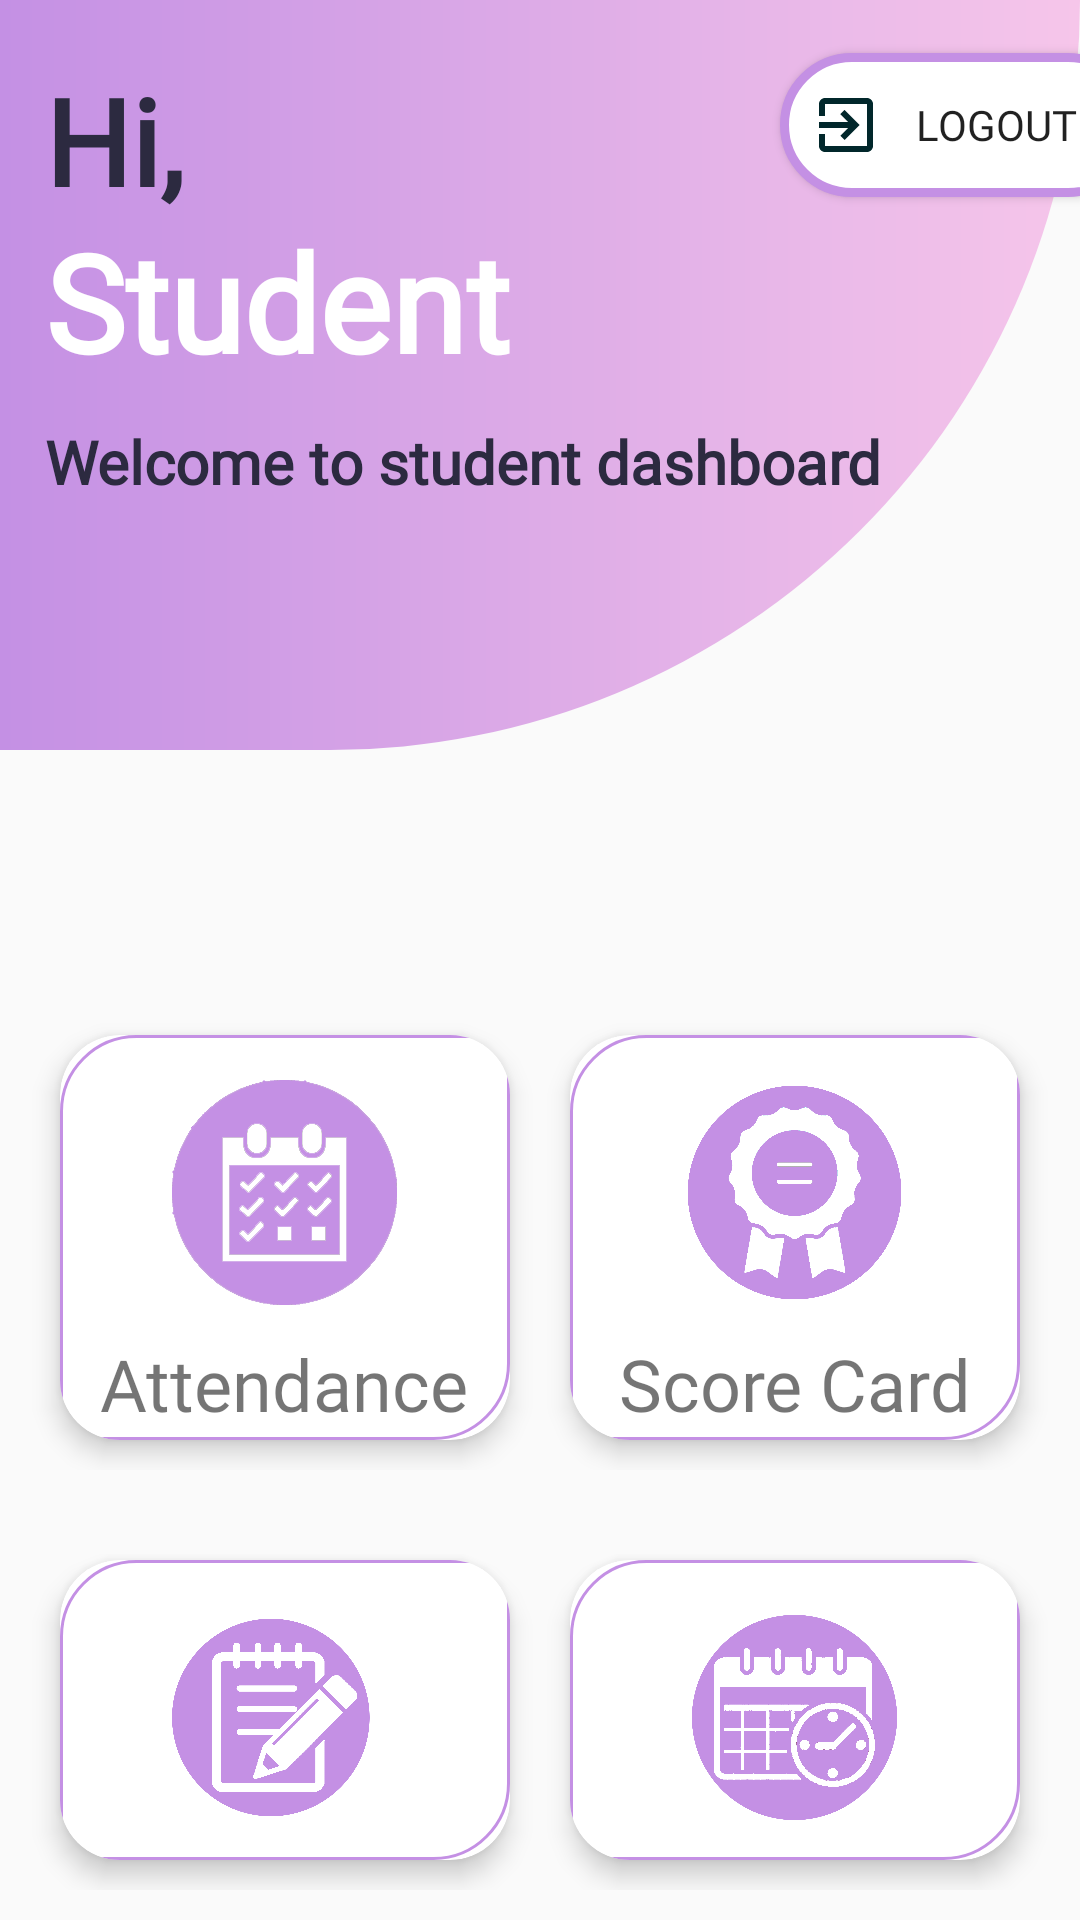

Named icons in this screenshot (1080px×1920px) and their bounding boxes, (x1, y1, x2, y2):
notice: (172, 1619, 370, 1816)
time table: (692, 1615, 897, 1820)
